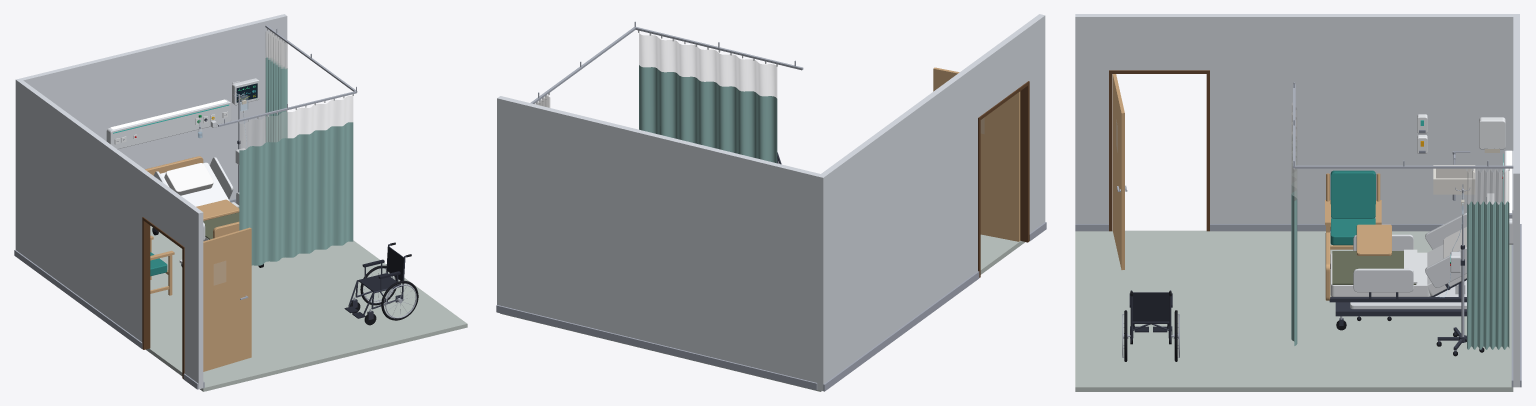
Rendered from hos-002.glb.
The picture shows the model from 3 angles, left to right: view 1: azimuth 30°, elevation 25°; view 2: azimuth 150°, elevation 25°; view 3: azimuth 270°, elevation 25°; orthographic projection. The views are drawn at different scales.
Visible parts, largest first — view 1: wall, hospital_floor, curtain_fabric, beech, curtain_mesh, bed_frame, walnut, steel, pillow, skirting, plastic_dark, bed_sheet (+4 smaller); view 2: wall, curtain_fabric, beech, curtain_mesh, skirting, walnut, hospital_floor, steel; view 3: wall, hospital_floor, curtain_fabric, bed_frame, beech, vinyl_teal, dark_steel, skirting, steel, bed_sheet, curtain_mesh, walnut (+6 smaller).
Boxes of the visible parts, left/top/right/bottom form: wall: left=15, top=14, right=287, bottom=389; hospital_floor: left=146, top=226, right=467, bottom=391; curtain_fabric: left=239, top=57, right=353, bottom=265; beech: left=145, top=156, right=251, bottom=371; curtain_mesh: left=239, top=31, right=352, bottom=149; bed_frame: left=106, top=78, right=259, bottom=263; walnut: left=142, top=217, right=184, bottom=378; steel: left=198, top=25, right=416, bottom=318; pillow: left=164, top=163, right=213, bottom=195; skirting: left=14, top=199, right=235, bottom=389; plastic_dark: left=117, top=114, right=403, bottom=318; bed_sheet: left=160, top=162, right=239, bottom=241; wall: left=497, top=14, right=1045, bottom=390; curtain_fabric: left=639, top=65, right=777, bottom=163; beech: left=933, top=67, right=1020, bottom=241; curtain_mesh: left=535, top=33, right=776, bottom=107; skirting: left=496, top=222, right=1046, bottom=391; walnut: left=978, top=81, right=1029, bottom=277; hospital_floor: left=500, top=234, right=1025, bottom=391; steel: left=530, top=21, right=803, bottom=103; wall: left=1075, top=14, right=1519, bottom=387; hospital_floor: left=1075, top=230, right=1513, bottom=391; curtain_fabric: left=1291, top=182, right=1509, bottom=349; bed_frame: left=1350, top=150, right=1513, bottom=309; beech: left=1112, top=74, right=1391, bottom=300; vinyl_teal: left=1330, top=170, right=1375, bottom=245; dark_steel: left=1130, top=245, right=1482, bottom=354; skirting: left=1075, top=224, right=1521, bottom=387; steel: left=1117, top=82, right=1513, bottom=357; bed_sheet: left=1330, top=244, right=1466, bottom=296; curtain_mesh: left=1291, top=102, right=1508, bottom=204; walnut: left=1109, top=70, right=1209, bottom=231.
Bounding box in the file's own units: 4.5 × 2.86 × 5.3.
